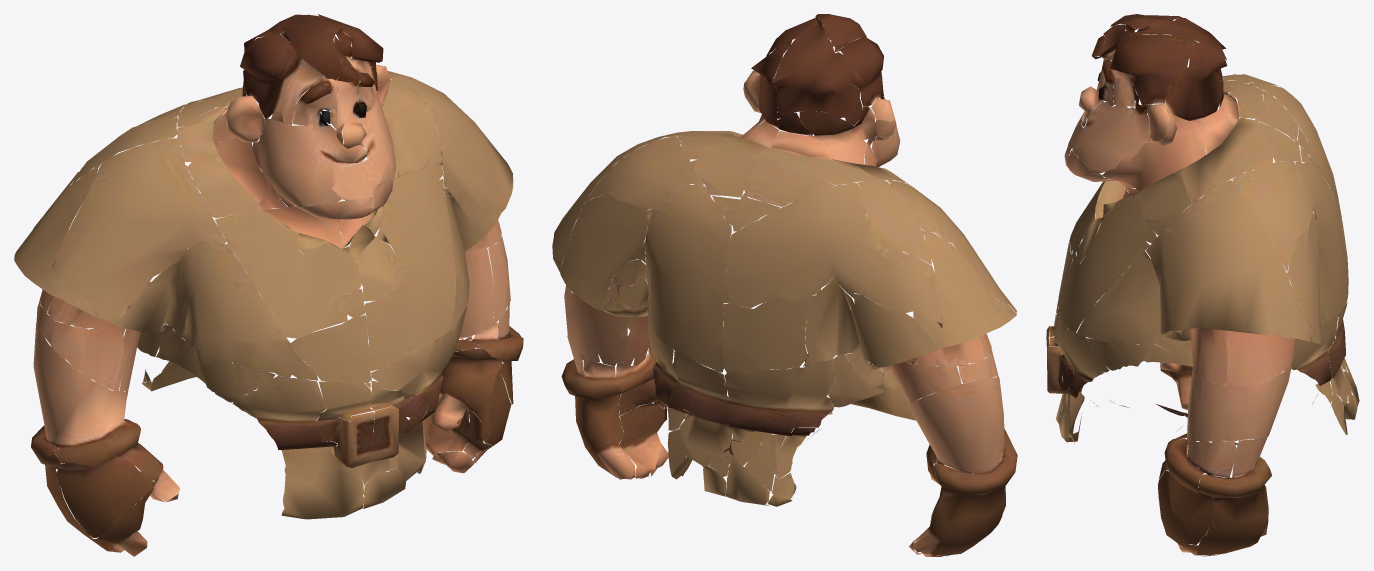
File: villager-body.glb
3 views of the same model, side by side, from view 1: azimuth 30°, elevation 25°; view 2: azimuth 150°, elevation 25°; view 3: azimuth 270°, elevation 25° (orthographic). The views are drawn at different scales.
Visible parts, largest first — view 1: tripo_node_2b2a274c-68c4-4dc1-b889-d5ddfc6dd8be; view 2: tripo_node_2b2a274c-68c4-4dc1-b889-d5ddfc6dd8be; view 3: tripo_node_2b2a274c-68c4-4dc1-b889-d5ddfc6dd8be.
Boxes of the visible parts, x1,y1,x2,y2 form: tripo_node_2b2a274c-68c4-4dc1-b889-d5ddfc6dd8be: [14, 14, 523, 556]; tripo_node_2b2a274c-68c4-4dc1-b889-d5ddfc6dd8be: [552, 14, 1017, 556]; tripo_node_2b2a274c-68c4-4dc1-b889-d5ddfc6dd8be: [1046, 14, 1359, 556].
Size of the model in its own units: 0.6694 by 0.6822 by 0.4146.
Materials: 1 (1 with a texture image).
